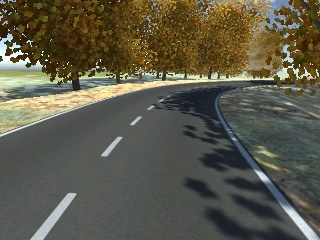Line slipt: (100, 105, 156, 159)
